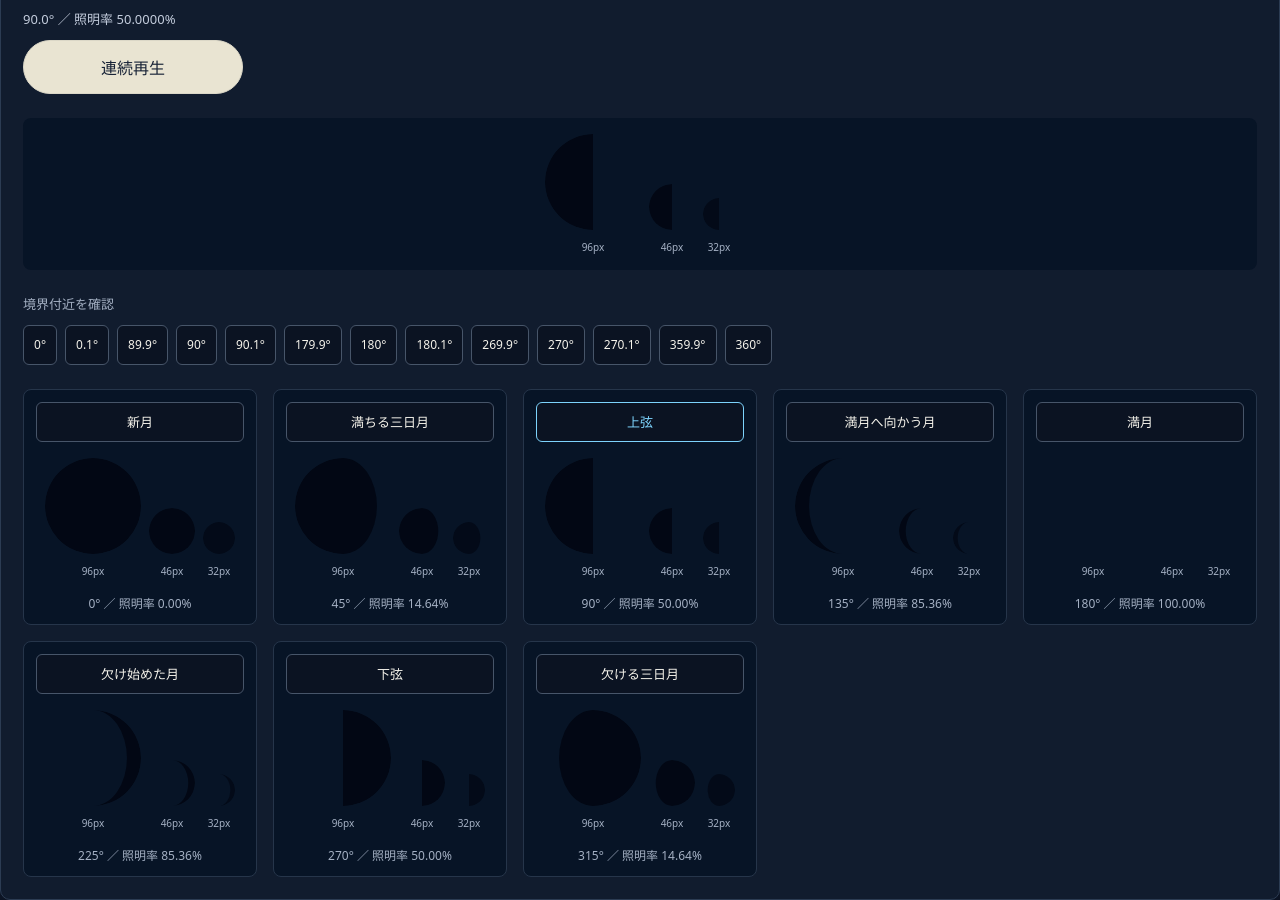
Test: プリセットを選ぶと影が更新され、満月では3サイズとも影が消える
(page scrolled)
Click the button "下弦".
click(390, 674)  # box [286,654,494,694]
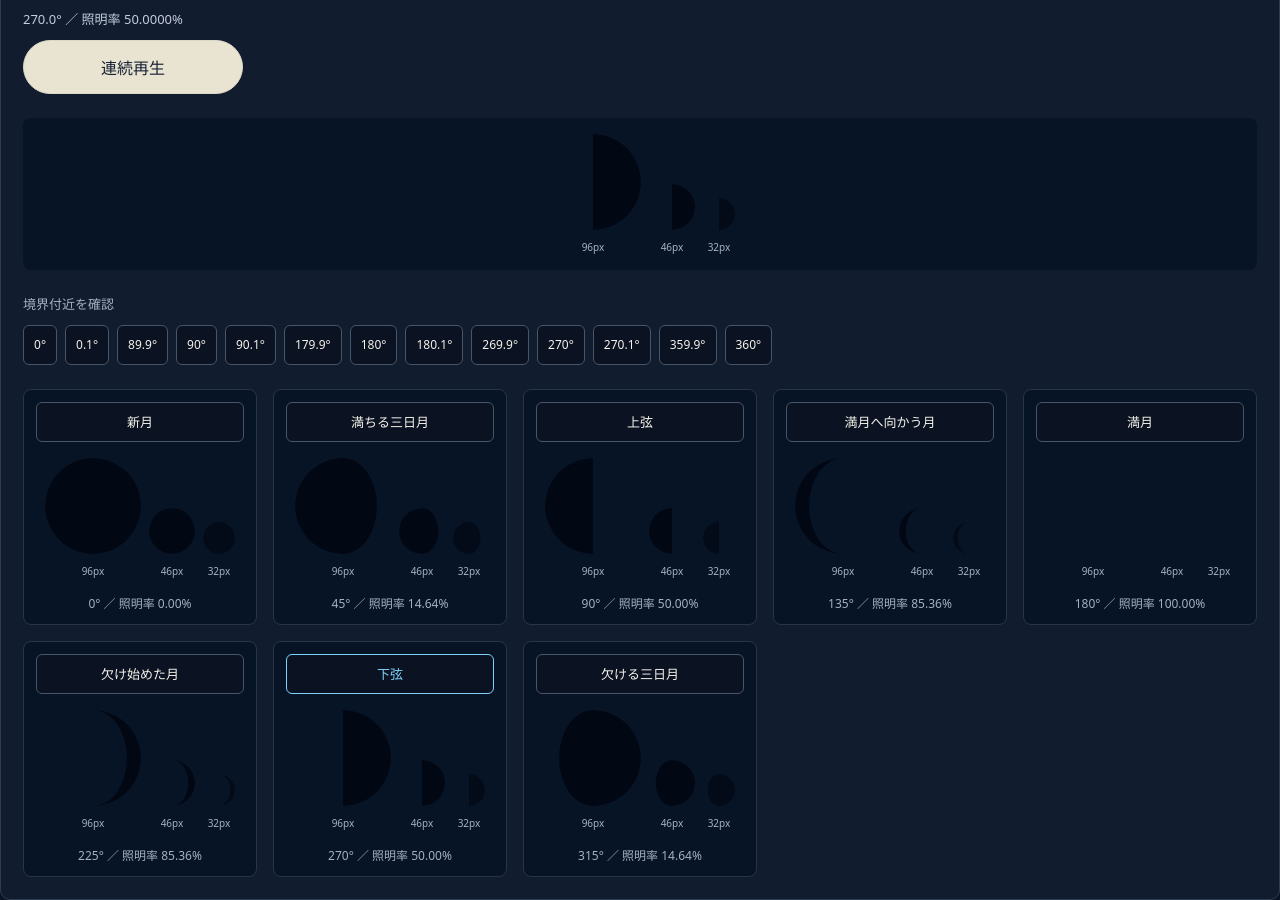
Click the button "満月".
click(1140, 422)  # box [1036,402,1244,442]
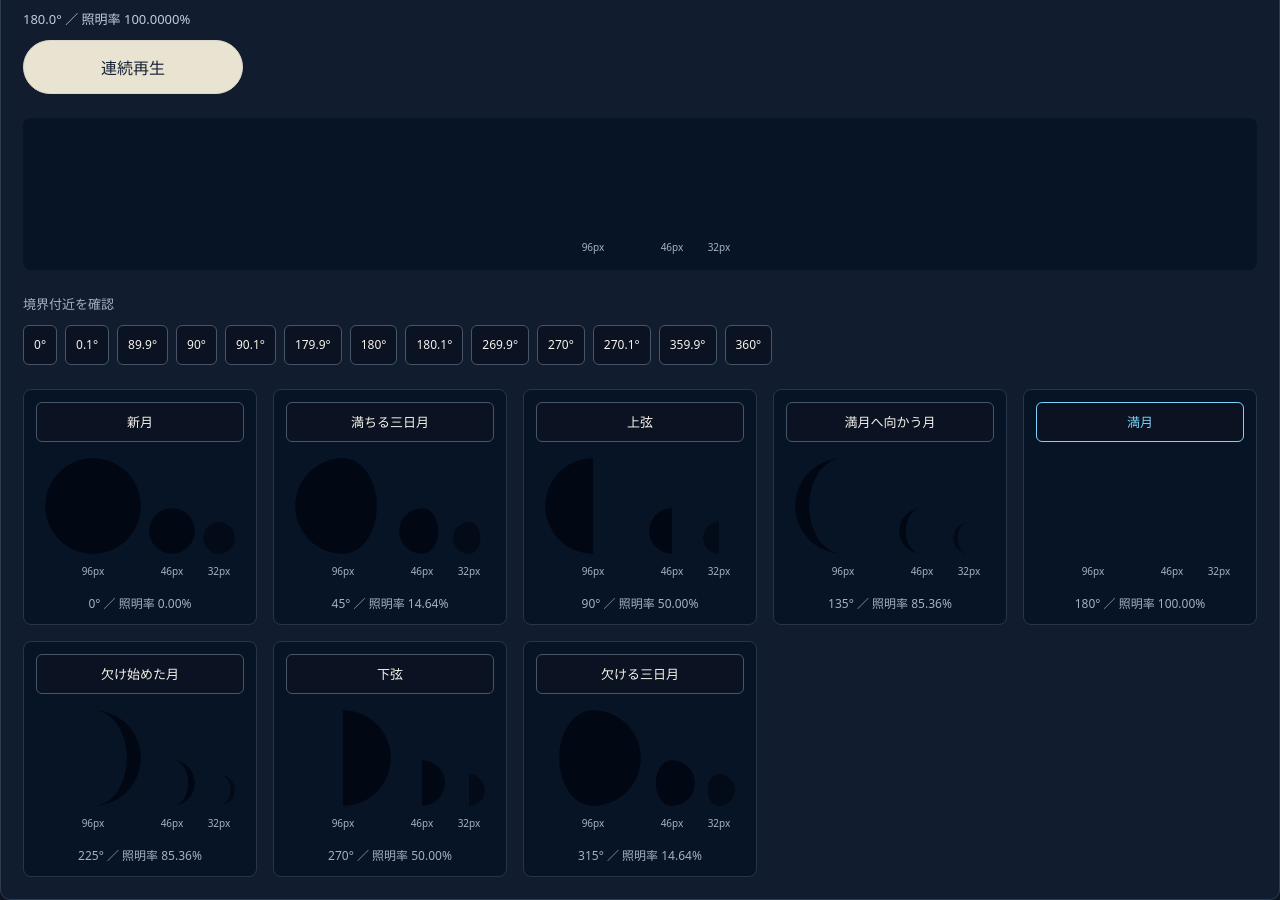
Check: the text "180.0° ／ 照明率 100.0000%" is shown, box [23,10,190,28]
